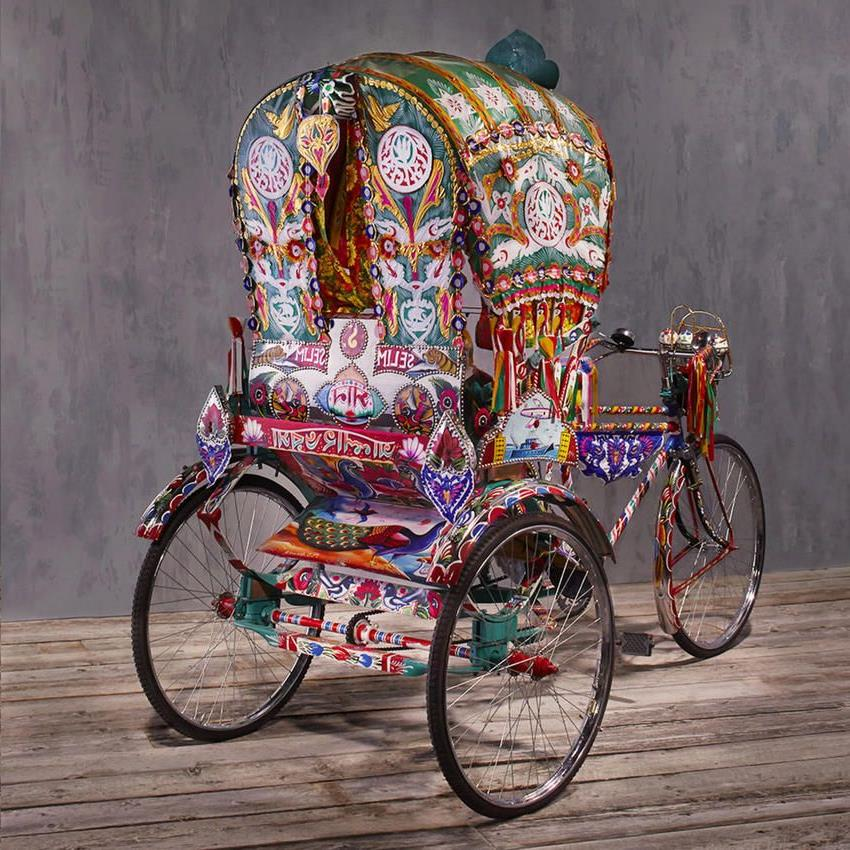Rickshaw: (121, 44, 788, 750)
